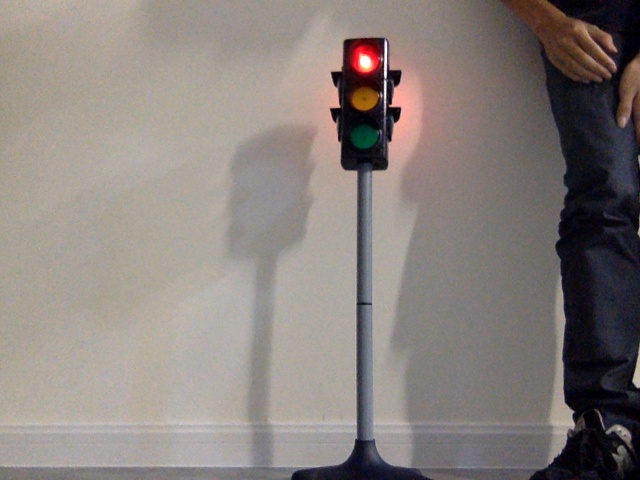red: (345, 45, 381, 158)
